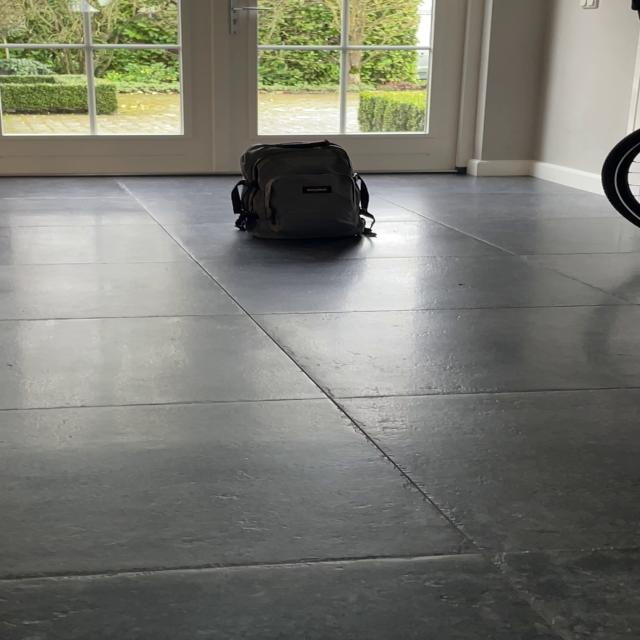backpack: (224, 136, 376, 247)
